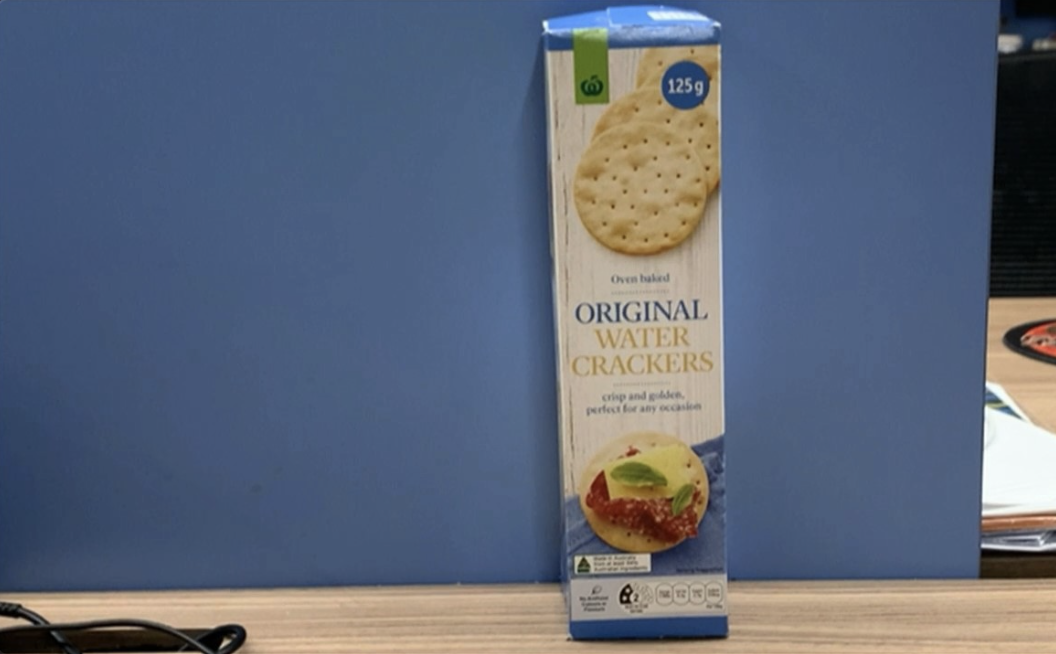crackers_150g: (569, 45, 720, 619)
